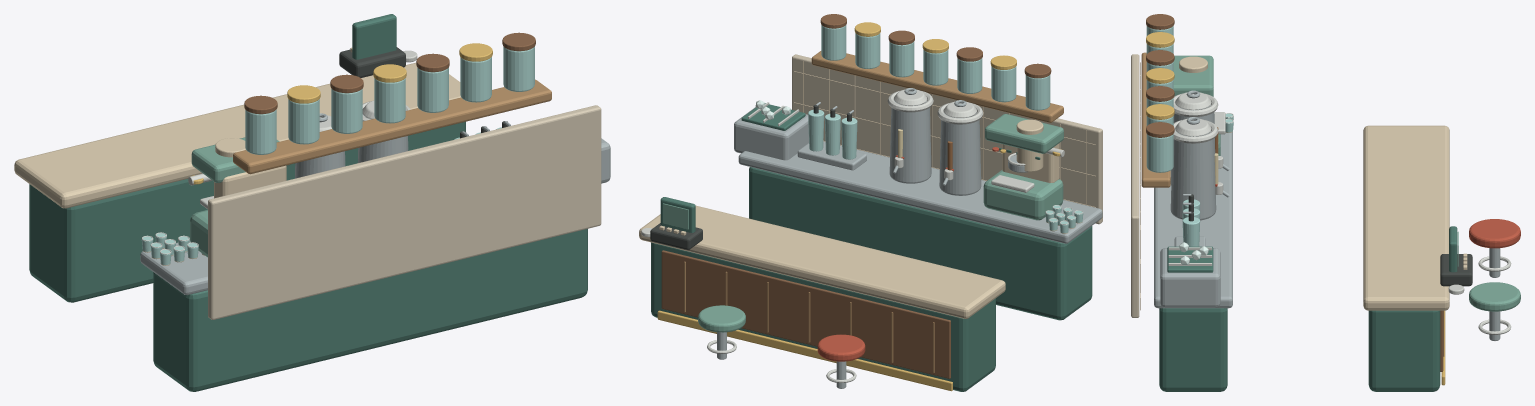
The model's file is seven_cups_tea_v2.glb.
3 renders of one model, left to right at view 1: azimuth 30°, elevation 25°; view 2: azimuth 150°, elevation 25°; view 3: azimuth 270°, elevation 25°, orthographic. The views are drawn at different scales.
Visible parts, largest first — view 1: 旧白瓷砖背板, 后墙设备台 · 墨绿柜体, 吧台 · 墨绿木作柜体, 吧台 · 石英台面, 墙挂置物架, 后墙设备台 · 不锈钢台面, 收银机显示屏, 茶叶原料透明罐.001, 茶叶原料透明罐.003, 茶叶原料透明罐.005, 茶叶原料透明罐.004, 茶叶原料透明罐.006 (+15 smaller); view 2: 后墙设备台 · 墨绿柜体, 吧台 · 正面木饰板, 吧台 · 石英台面, 旧白瓷砖背板, 后墙设备台 · 不锈钢台面, 吧台 · 墨绿木作柜体, 墙挂置物架, 红茶保温桶 主罐, 奶茶保温桶 主罐, 封口机 · 厚底座, 吧台 · 黄铜踢脚, 冰槽保温箱 (+25 smaller); view 3: 吧台 · 石英台面, 吧台 · 墨绿木作柜体, 后墙设备台 · 墨绿柜体, 后墙设备台 · 不锈钢台面, 奶茶保温桶 主罐, 冰槽保温箱, 旧白瓷砖背板, 顾客等候圆凳座.001, 顾客等候圆凳座, 墙挂置物架, 封口机 · 上横臂, 茶叶原料透明罐.006 (+16 smaller).
Part boxes in pixels (x1,y1,x2,y2): 旧白瓷砖背板: [208, 105, 601, 319]; 后墙设备台 · 墨绿柜体: [153, 229, 587, 391]; 吧台 · 墨绿木作柜体: [29, 121, 465, 302]; 吧台 · 石英台面: [14, 62, 460, 208]; 墙挂置物架: [233, 79, 551, 174]; 后墙设备台 · 不锈钢台面: [140, 240, 207, 295]; 收银机显示屏: [352, 14, 396, 59]; 茶叶原料透明罐.001: [288, 99, 319, 144]; 茶叶原料透明罐.003: [374, 78, 405, 123]; 茶叶原料透明罐.005: [460, 57, 491, 102]; 茶叶原料透明罐.004: [417, 67, 448, 112]; 茶叶原料透明罐.006: [503, 46, 534, 91]; 后墙设备台 · 墨绿柜体: [749, 167, 1092, 320]; 吧台 · 正面木饰板: [661, 250, 950, 378]; 吧台 · 石英台面: [639, 205, 1005, 318]; 旧白瓷砖背板: [792, 54, 1102, 224]; 后墙设备台 · 不锈钢台面: [738, 141, 1102, 243]; 吧台 · 墨绿木作柜体: [651, 242, 995, 391]; 墙挂置物架: [811, 51, 1063, 122]; 红茶保温桶 主罐: [939, 113, 981, 195]; 奶茶保温桶 主罐: [889, 100, 931, 183]; 封口机 · 厚底座: [983, 170, 1063, 220]; 吧台 · 黄铜踢脚: [657, 310, 952, 391]; 冰槽保温箱: [734, 107, 808, 160]; 吧台 · 石英台面: [1363, 125, 1449, 310]; 吧台 · 墨绿木作柜体: [1368, 310, 1440, 391]; 后墙设备台 · 墨绿柜体: [1159, 308, 1227, 391]; 后墙设备台 · 不锈钢台面: [1154, 132, 1232, 308]; 奶茶保温桶 主罐: [1170, 131, 1216, 220]; 冰槽保温箱: [1160, 248, 1220, 307]; 旧白瓷砖背板: [1131, 54, 1139, 317]; 顾客等候圆凳座.001: [1469, 282, 1520, 311]; 顾客等候圆凳座: [1469, 219, 1520, 248]; 墙挂置物架: [1141, 52, 1170, 187]; 封口机 · 上横臂: [1173, 55, 1213, 96]; 茶叶原料透明罐.006: [1146, 134, 1173, 172].
Bounding box in the file's own units: 4.11 × 2.51 × 3.75.
